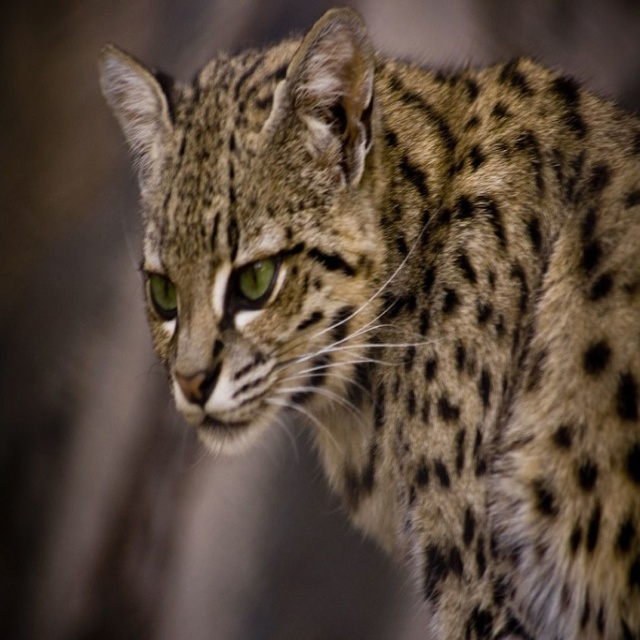Leopard: (98, 6, 640, 640)
